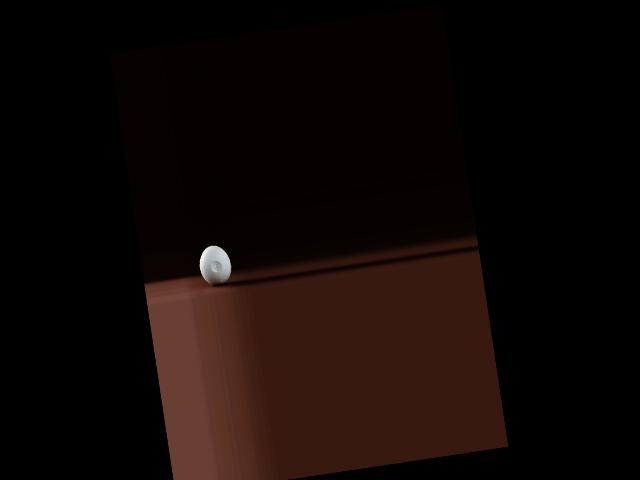egg: (197, 243, 233, 287)
